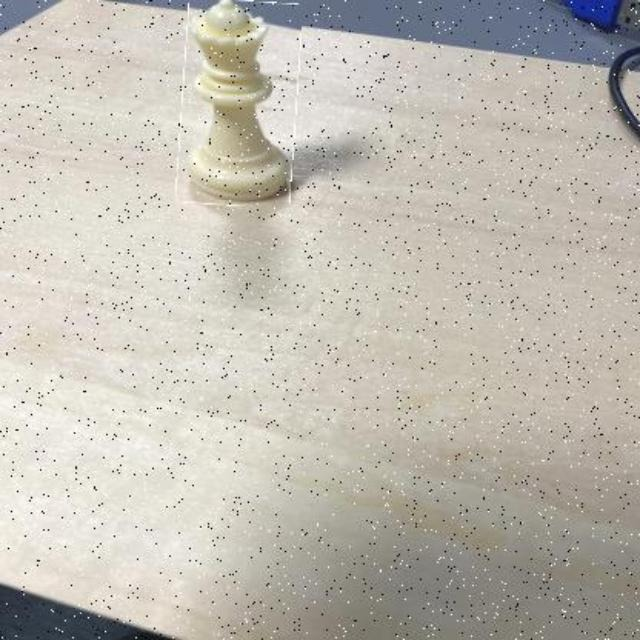white-queen: (178, 0, 301, 207)
